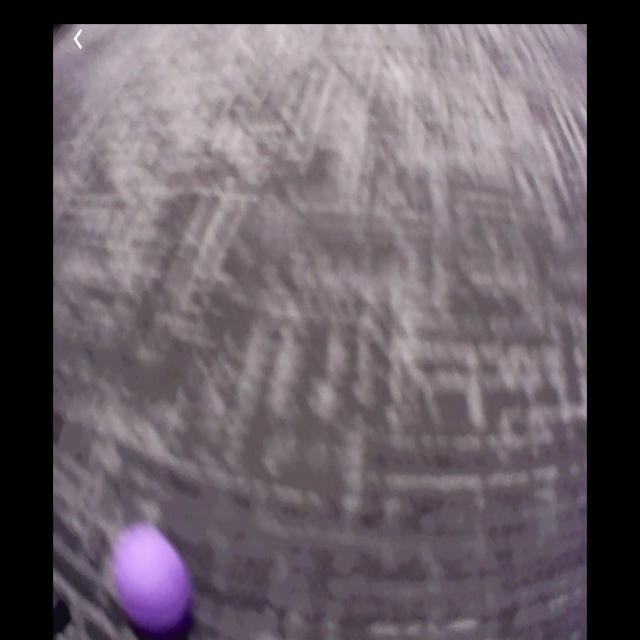ball: (113, 529, 187, 635)
